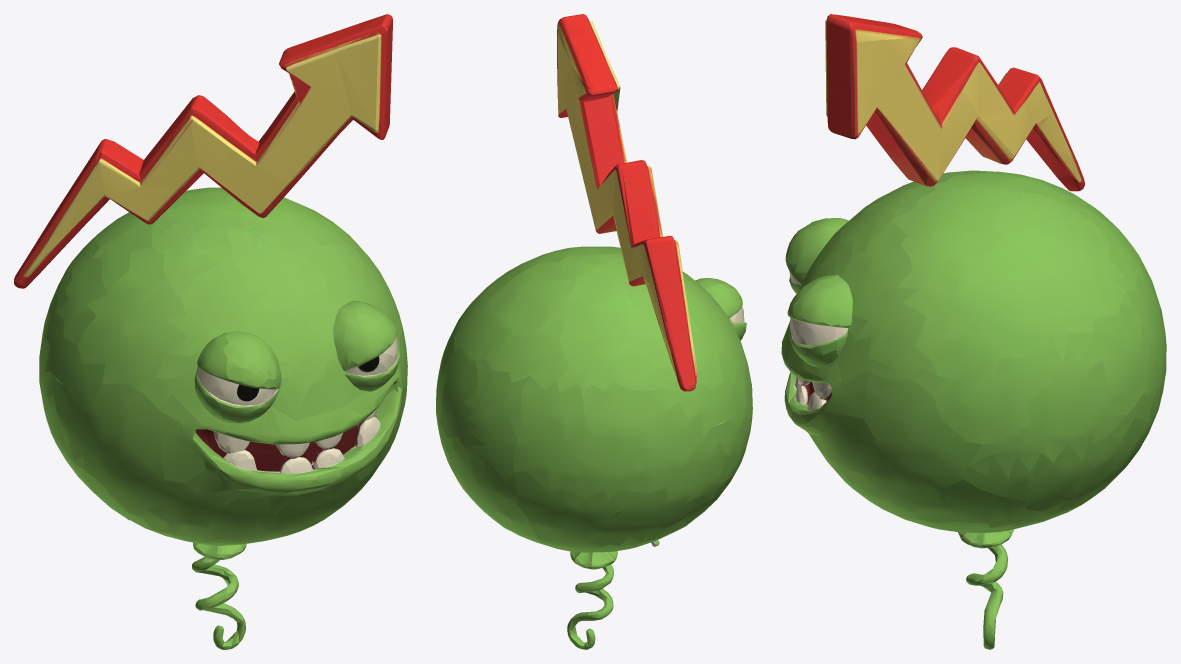
File: pump-balloon.glb
3 views of the same model, side by side, from view 1: azimuth 30°, elevation 25°; view 2: azimuth 150°, elevation 25°; view 3: azimuth 270°, elevation 25° (orthographic). The views are drawn at different scales.
Bounding box in the file's own units: 0.9703 × 1.9 × 0.9878.
1 material, 1 textured.
